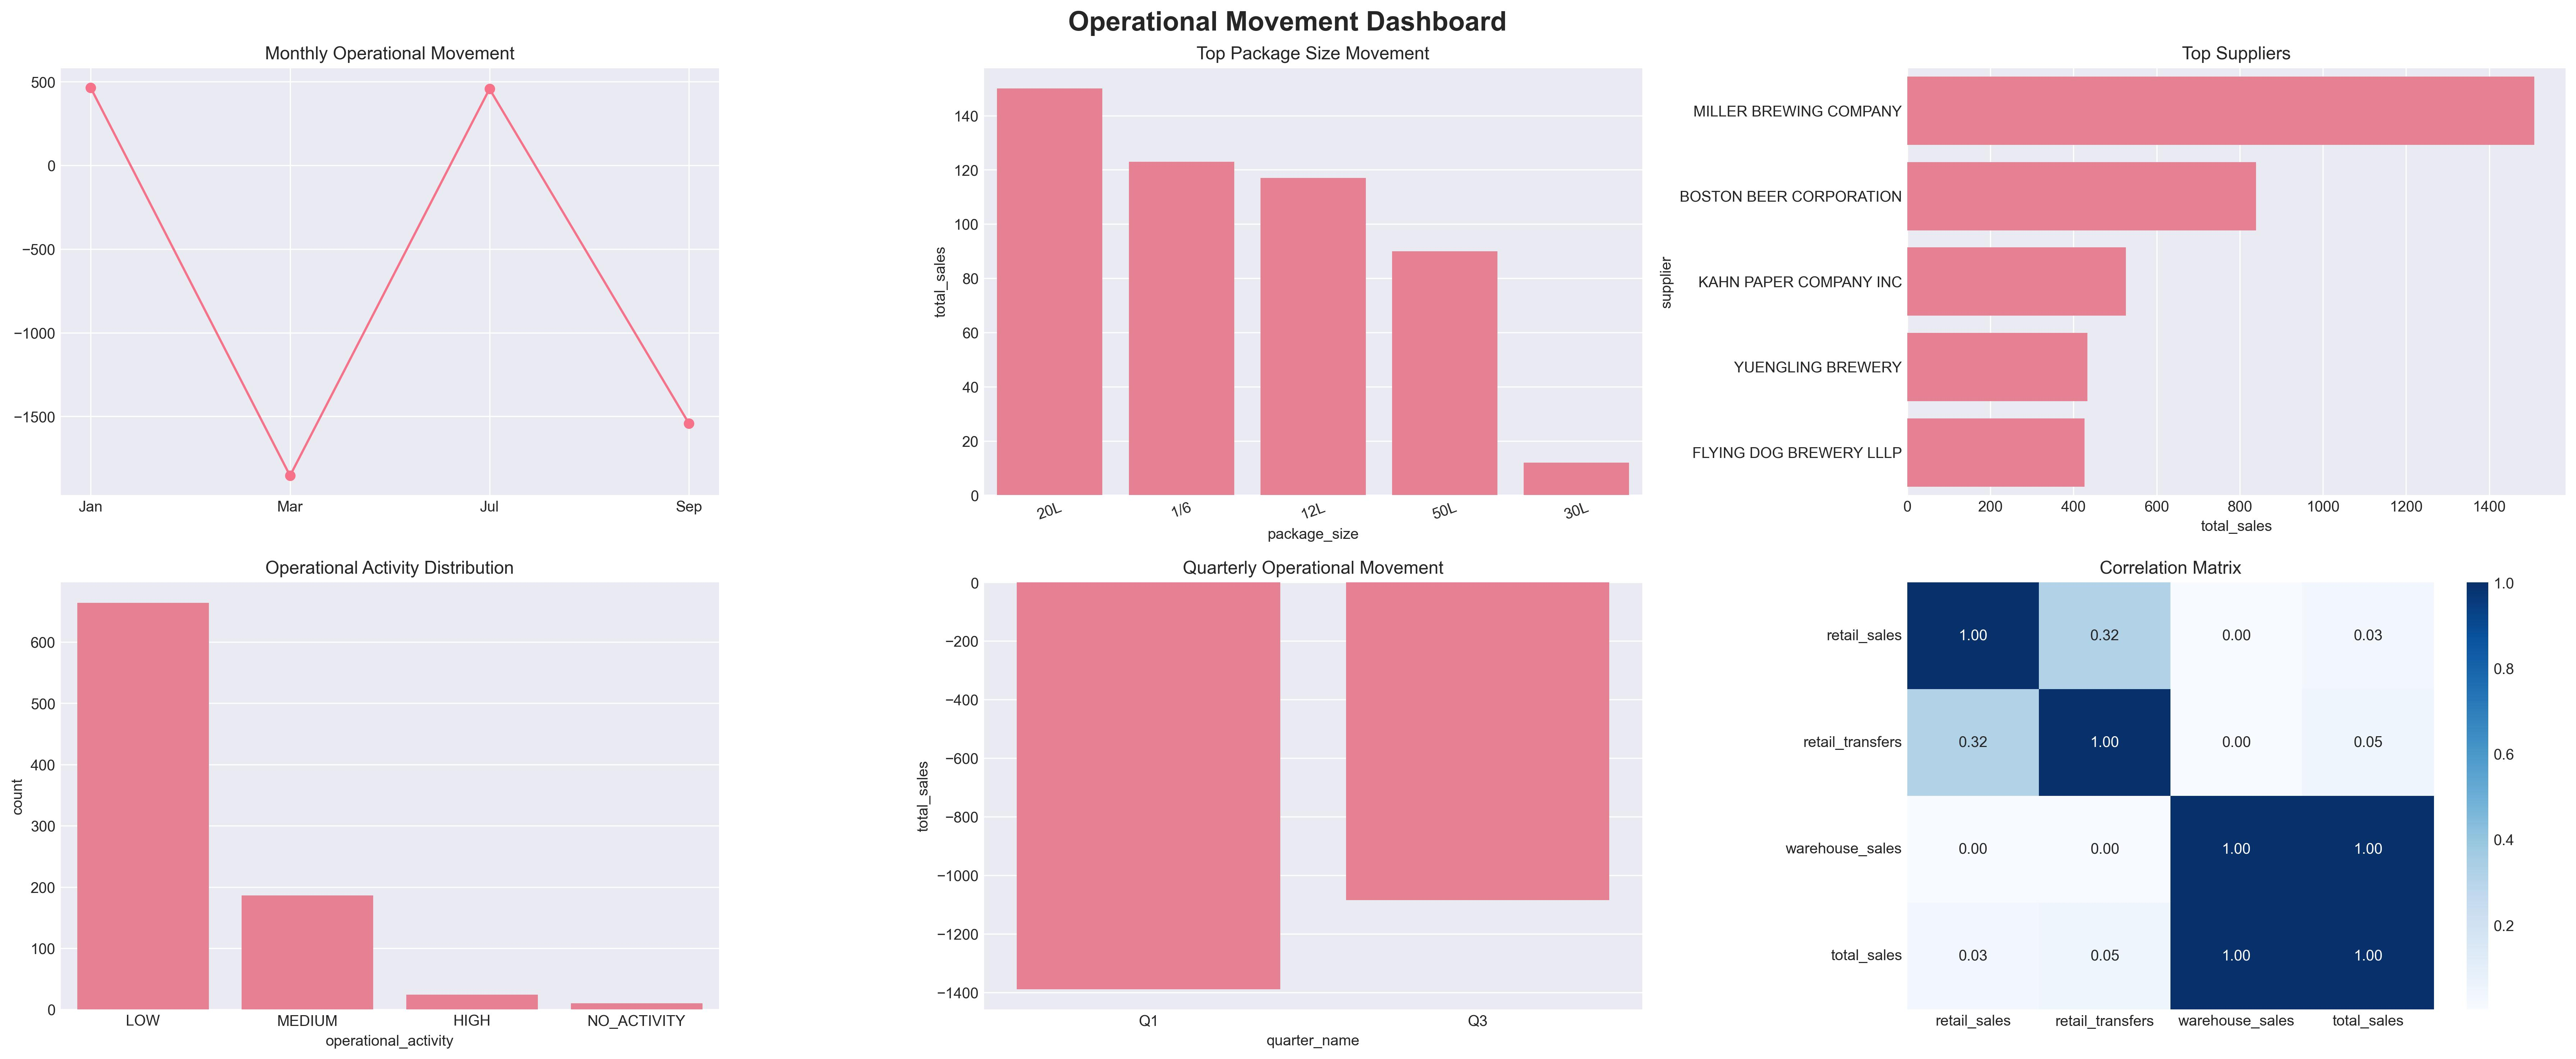

The page's visual inventory and layout, read from the dashboard file:
{"tool":"powerbi","page":{"name":"Operational Analysis","canvas":[1280,720],"ordinal":3},"visuals":[{"type":"textbox","box":[0,0,1280,58.6],"z":0},{"type":"cardVisual","title":"NET OPERATIONAL SALES","fields":{"Data":["operational_data_processed.Operational Total Sales"]},"box":[96.1,68.6,280,64.5],"z":0,"group":"g1"},{"type":"shape","box":[0,59,85.1,661.4],"z":1000},{"type":"cardVisual","title":"TOTAL OPERATIONAL ITEMS","fields":{"Data":["operational_data_processed.Operational Total Items"]},"box":[394.3,68.6,280,64.5],"z":1000,"group":"g1"},{"type":"cardVisual","title":"TOTAL PACKAGE SIZES","fields":{"Data":["operational_data_processed.Operational Package Sizes"]},"box":[692.5,68.6,280,64.5],"z":2000,"group":"g1"},{"type":"textbox","box":[0,68.8,85.7,33.8],"z":2000},{"type":"cardVisual","title":"TOP OPERATIONAL ACTIVITY","fields":{"Data":["operational_data_processed.Top Operational Activity"]},"box":[990.8,68.6,279.9,64.2],"z":3000,"group":"g1"},{"type":"actionButton","box":[0,208.7,85.7,48.3],"z":3000},{"type":"actionButton","box":[0,150.8,85.7,48.3],"z":4000},{"type":"actionButton","box":[0,265.4,85.7,47.1],"z":5000},{"type":"slicer","title":"Quarter","fields":{"Values":["non_alcohol_data_processed.quarter"]},"box":[0,360,85.7,60],"z":6000},{"type":"actionButton","box":[0,94.1,85.7,48.3],"z":7000},{"type":"textbox","box":[0,325.7,85.7,33.8],"z":8000},{"type":"group","id":"g1","title":"Group 1","box":[96.1,68.6,1174.6,64.5],"z":9000},{"type":"group","id":"g2","title":"Group 2","box":[96.1,142.7,1174.6,194.9],"z":10000},{"type":"lineChart","title":"MONTHLY OPERATIONAL SALES TREND","fields":{"Y":["Sum(operational_data_processed.total_sales)"],"Category":["operational_data_processed.Month Name"]},"box":[96.1,142.7,688.9,193.5],"z":10000,"group":"g2"},{"type":"donutChart","title":"OPERATIONAL ACTIVITY DISTRIBUTION","fields":{"Category":["operational_data_processed.operational_activity"],"Y":["Sum(operational_data_processed.total_sales)"]},"box":[644.6,343.1,626.1,179.5],"z":10000,"group":"g3"},{"type":"group","id":"g3","title":"Group 3","box":[96.1,343.1,1174.6,369.1],"z":11000},{"type":"clusteredBarChart","title":"TOP 5 OPERATIONAL PRODUCTS BY SALES","fields":{"Category":["operational_data_processed.item_description"],"Y":["Sum(operational_data_processed.total_sales)"]},"box":[96.1,343.1,538.8,179.5],"z":11000,"group":"g3"},{"type":"treemap","title":"PACKAGE SIZE CONTRIBUTION","fields":{"Values":["Sum(operational_data_processed.total_sales)"],"Group":["operational_data_processed.package_size"]},"box":[790.8,142.7,479.9,194.9],"z":11002,"group":"g2"},{"type":"shape","box":[0,341.4,85.7,28.6],"z":12000},{"type":"clusteredBarChart","title":"TOP 5 SUPPLIERS BY SALES","fields":{"Category":["operational_data_processed.supplier"],"Y":["Sum(operational_data_processed.total_sales)"]},"box":[97.5,532.7,538.8,178.1],"z":12000,"group":"g3"},{"type":"textbox","box":[1077.2,689.8,193.5,30.2],"z":12001},{"type":"textbox","box":[0,536.5,85.1,171.5],"z":12002},{"type":"donutChart","title":"OPERATIONAL SALES BY ITEM TYPE","fields":{"Y":["Sum(operational_data_processed.total_sales)"],"Category":["operational_data_processed.item_type"]},"box":[644.6,532.7,626.1,179.5],"z":14000,"group":"g3"}]}

Visuals, with their boxes on the page's 1280x720 design canvas (x1, y1, x2, y2). These are canvas units, not pixel positions in the 2576x1059 screenshot, which may show the page scaled, cropped or inside an application window:
textbox: (x1=0, y1=0, x2=1280, y2=59)
"NET OPERATIONAL SALES" cardVisual: (x1=96, y1=69, x2=376, y2=133)
shape: (x1=0, y1=59, x2=85, y2=720)
"TOTAL OPERATIONAL ITEMS" cardVisual: (x1=394, y1=69, x2=674, y2=133)
"TOTAL PACKAGE SIZES" cardVisual: (x1=692, y1=69, x2=972, y2=133)
textbox: (x1=0, y1=69, x2=86, y2=103)
"TOP OPERATIONAL ACTIVITY" cardVisual: (x1=991, y1=69, x2=1271, y2=133)
actionButton: (x1=0, y1=209, x2=86, y2=257)
actionButton: (x1=0, y1=151, x2=86, y2=199)
actionButton: (x1=0, y1=265, x2=86, y2=312)
"Quarter" slicer: (x1=0, y1=360, x2=86, y2=420)
actionButton: (x1=0, y1=94, x2=86, y2=142)
textbox: (x1=0, y1=326, x2=86, y2=360)
"Group 1" group: (x1=96, y1=69, x2=1271, y2=133)
"Group 2" group: (x1=96, y1=143, x2=1271, y2=338)
"MONTHLY OPERATIONAL SALES TREND" lineChart: (x1=96, y1=143, x2=785, y2=336)
"OPERATIONAL ACTIVITY DISTRIBUTION" donutChart: (x1=645, y1=343, x2=1271, y2=523)
"Group 3" group: (x1=96, y1=343, x2=1271, y2=712)
"TOP 5 OPERATIONAL PRODUCTS BY SALES" clusteredBarChart: (x1=96, y1=343, x2=635, y2=523)
"PACKAGE SIZE CONTRIBUTION" treemap: (x1=791, y1=143, x2=1271, y2=338)
shape: (x1=0, y1=341, x2=86, y2=370)
"TOP 5 SUPPLIERS BY SALES" clusteredBarChart: (x1=98, y1=533, x2=636, y2=711)
textbox: (x1=1077, y1=690, x2=1271, y2=720)
textbox: (x1=0, y1=536, x2=85, y2=708)
"OPERATIONAL SALES BY ITEM TYPE" donutChart: (x1=645, y1=533, x2=1271, y2=712)
